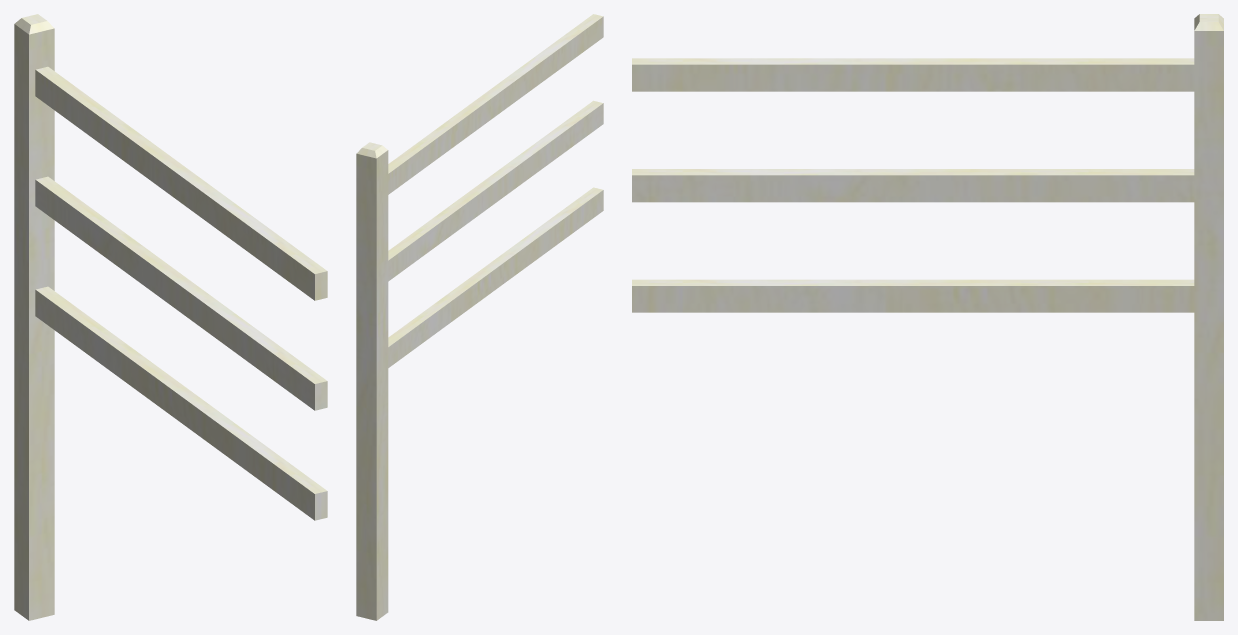
File: zaun.obj
3 views of the same model, side by side, from view 1: azimuth 30°, elevation 25°; view 2: azimuth 150°, elevation 25°; view 3: azimuth 270°, elevation 25° (orthographic). The views are drawn at different scales.
Visible parts, largest first — view 1: SketchUp_ID2, SketchUp.002_ID23, SketchUp.001_ID15, SketchUp.003_ID31; view 2: SketchUp_ID2, SketchUp.001_ID15, SketchUp.002_ID23, SketchUp.003_ID31; view 3: SketchUp.001_ID15, SketchUp.003_ID31, SketchUp.002_ID23, SketchUp_ID2.
Boxes of the visible parts, left/top/right/bottom form: SketchUp_ID2: left=14, top=14, right=54, bottom=620; SketchUp.002_ID23: left=35, top=176, right=327, bottom=410; SketchUp.001_ID15: left=35, top=66, right=327, bottom=300; SketchUp.003_ID31: left=35, top=286, right=327, bottom=520; SketchUp_ID2: left=356, top=142, right=388, bottom=620; SketchUp.001_ID15: left=388, top=14, right=603, bottom=194; SketchUp.002_ID23: left=388, top=100, right=603, bottom=281; SketchUp.003_ID31: left=388, top=187, right=603, bottom=367; SketchUp.001_ID15: left=632, top=58, right=1194, bottom=91; SketchUp.003_ID31: left=632, top=279, right=1194, bottom=312; SketchUp.002_ID23: left=632, top=169, right=1194, bottom=202; SketchUp_ID2: left=1194, top=14, right=1223, bottom=620.
Size of the model in its own units: 0.1 by 2.23 by 2.
